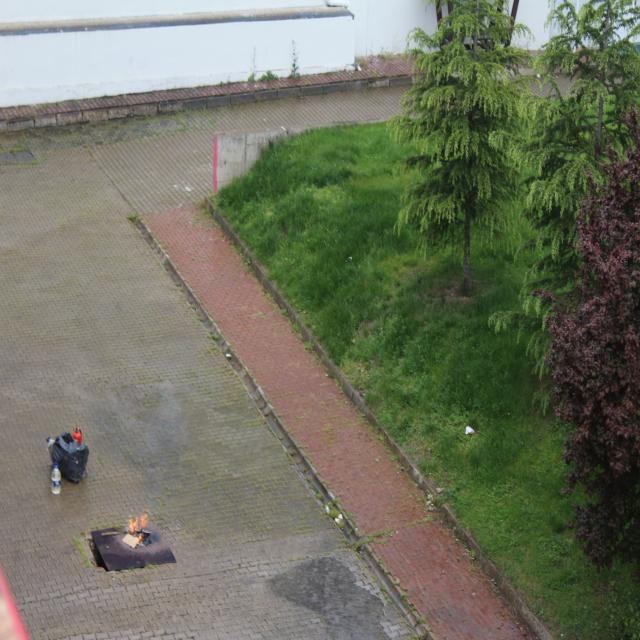fire: (125, 502, 154, 548)
